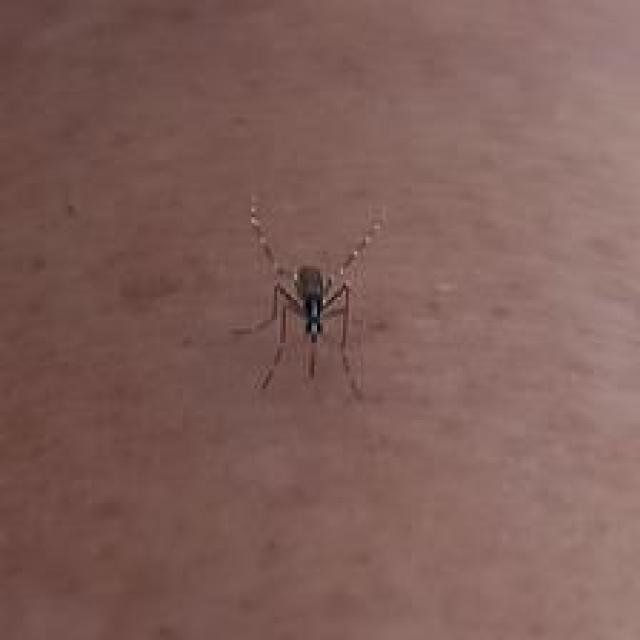Aedes albopictus: (227, 194, 387, 400)
